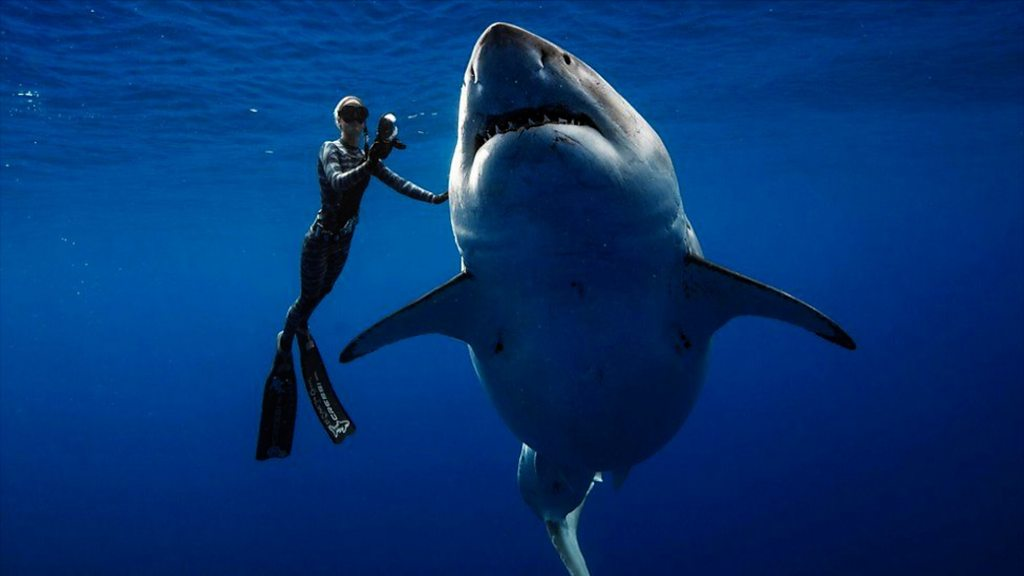shark: (330, 14, 863, 576)
